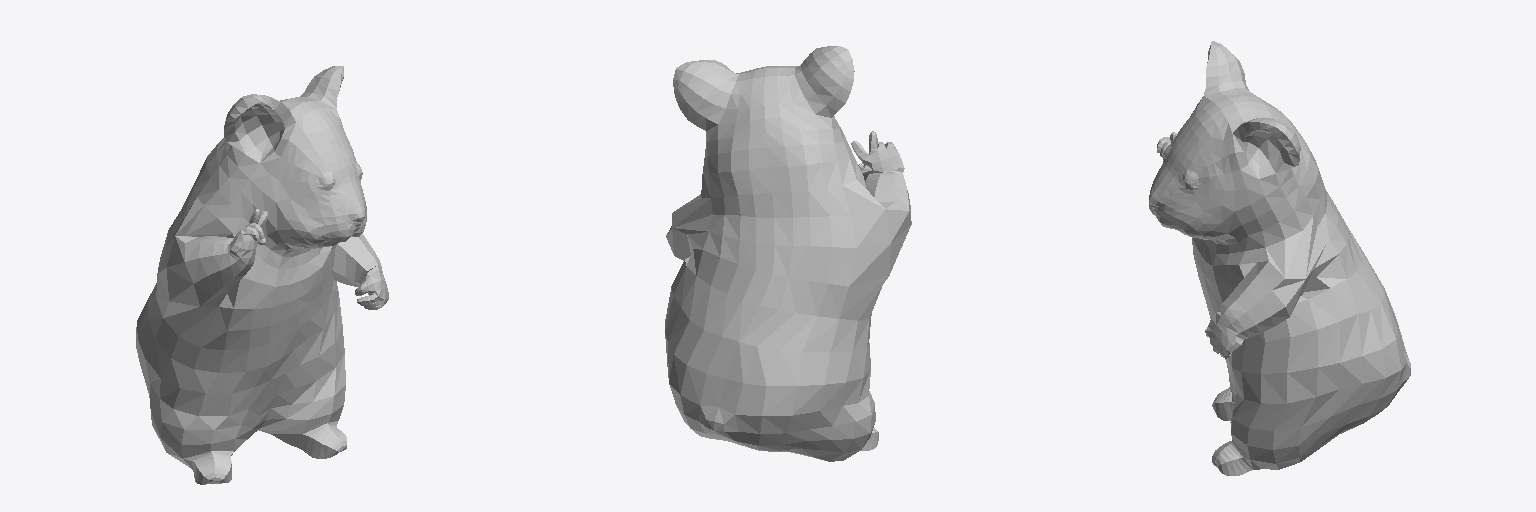
The model's file is Hamtaro.obj.
3 renders of one model, left to right at view 1: azimuth 30°, elevation 25°; view 2: azimuth 150°, elevation 25°; view 3: azimuth 270°, elevation 25°, orthographic.
Parts seen in each view (by area): view 1: Hamster; view 2: Hamster; view 3: Hamster.
Part boxes in pixels (left/top/right/bottom): Hamster: left=136, top=66, right=388, bottom=484; Hamster: left=665, top=46, right=911, bottom=461; Hamster: left=1149, top=41, right=1410, bottom=475.
Bounding box in the file's own units: 0.7164 × 1.25 × 0.7662.